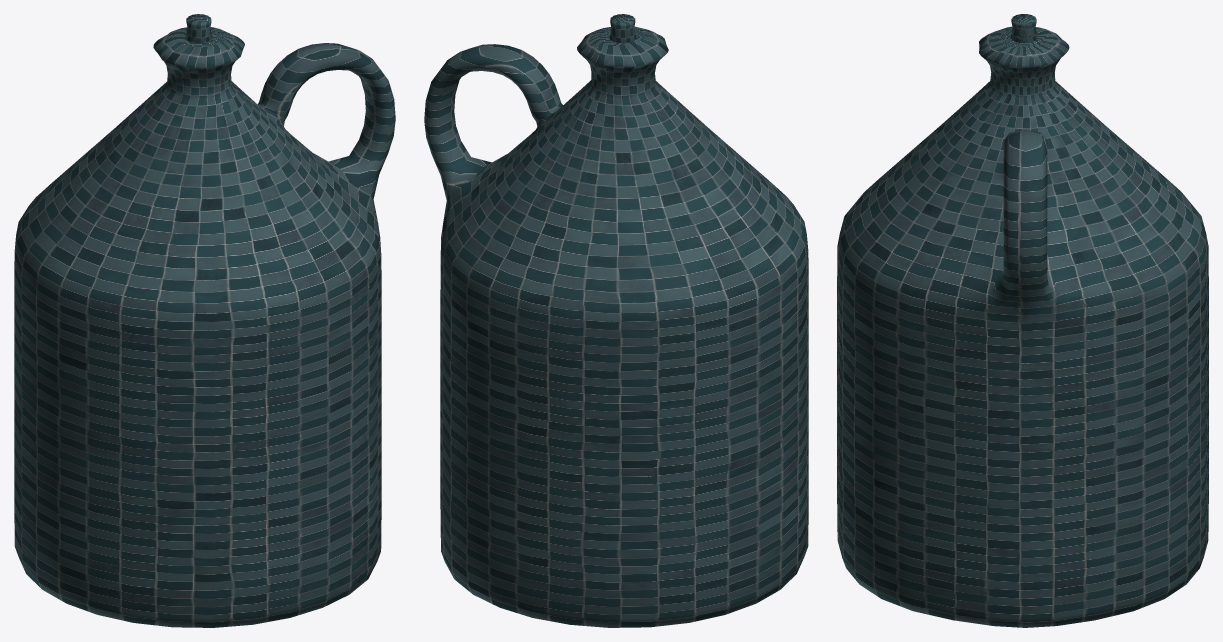
The model's file is cider_jug.glb.
The picture shows the model from 3 angles, left to right: view 1: azimuth 30°, elevation 25°; view 2: azimuth 150°, elevation 25°; view 3: azimuth 270°, elevation 25°; orthographic projection.
Visible parts, largest first — view 1: Cylinder; view 2: Cylinder; view 3: Cylinder.
Part boxes in pixels (x1,y1,x2,y2): Cylinder: (14, 14, 395, 627); Cylinder: (424, 14, 808, 627); Cylinder: (837, 14, 1208, 627).
Bounding box in the file's own units: 2.84 × 4.11 × 2.59.
Materials: 1 (1 with a texture image).
